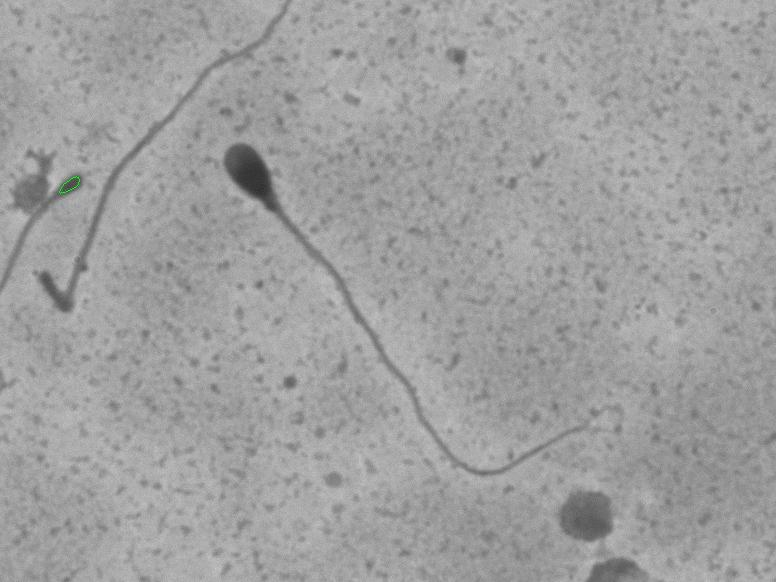Normal: (210, 118, 627, 480)
